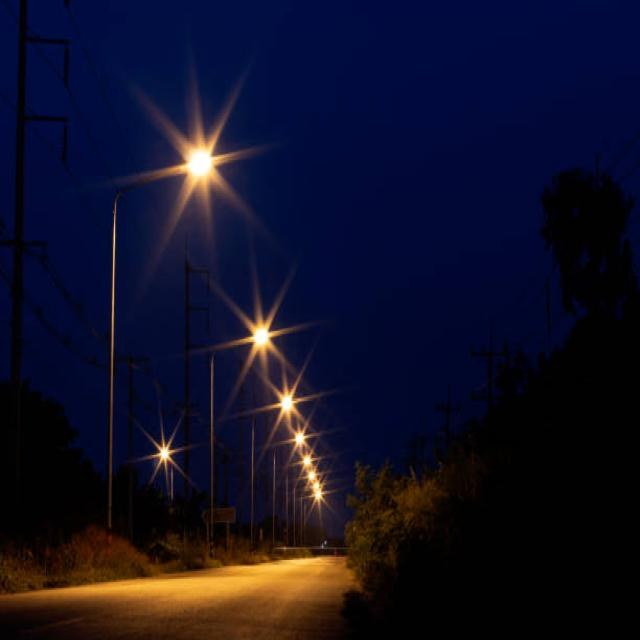acesa: (124, 58, 281, 253), (249, 346, 319, 448), (137, 415, 191, 487)
